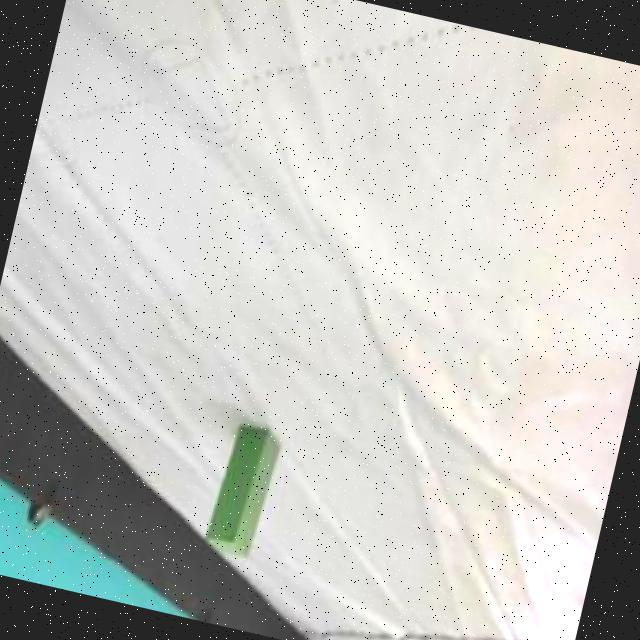greenbox: (200, 419, 282, 565)
